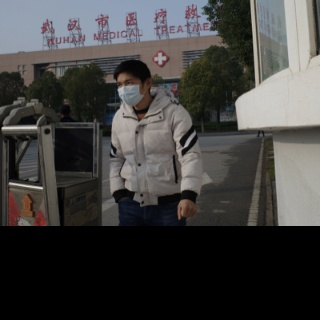with_mask: (116, 78, 144, 105)
